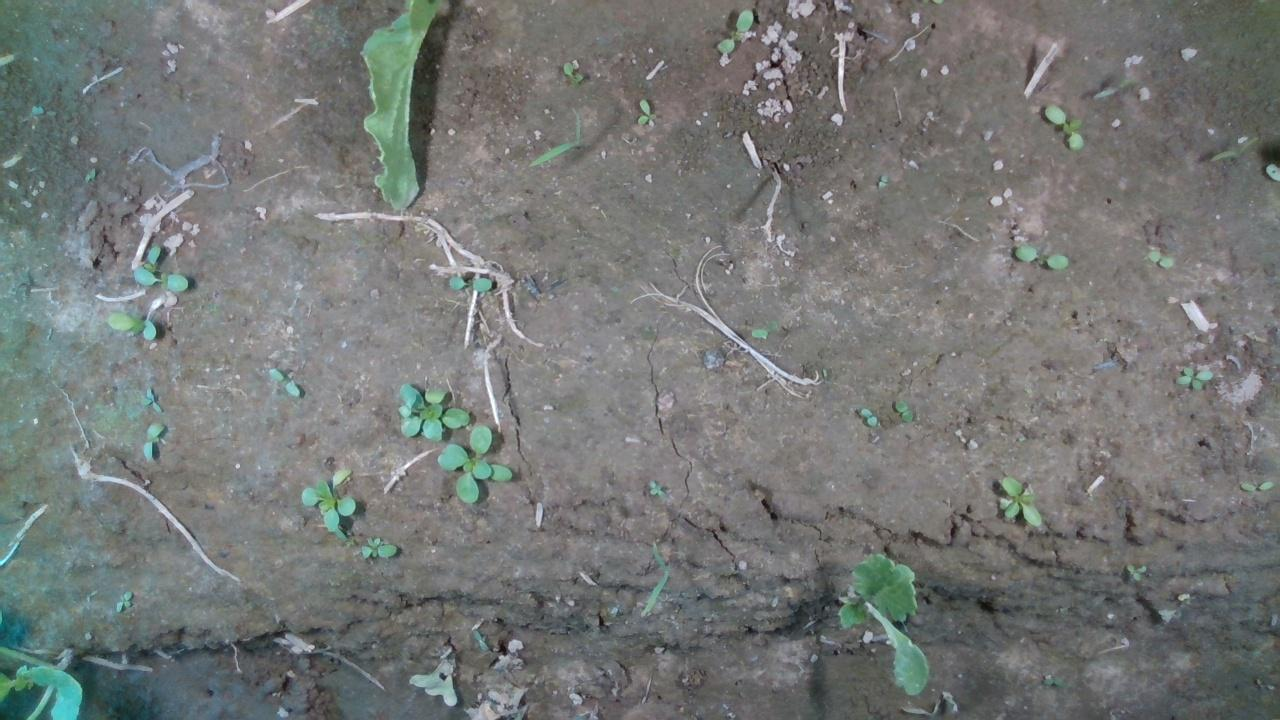weed: (1040, 103, 1083, 150), (715, 7, 754, 54), (1012, 243, 1070, 270), (103, 311, 157, 340), (266, 365, 301, 397), (1172, 364, 1213, 390), (142, 421, 165, 460), (358, 536, 397, 559), (444, 275, 491, 291), (138, 385, 165, 412), (1143, 247, 1175, 269), (633, 97, 655, 125), (855, 405, 878, 427), (1239, 478, 1275, 492), (562, 59, 581, 82), (1122, 562, 1145, 581), (895, 400, 914, 422)
